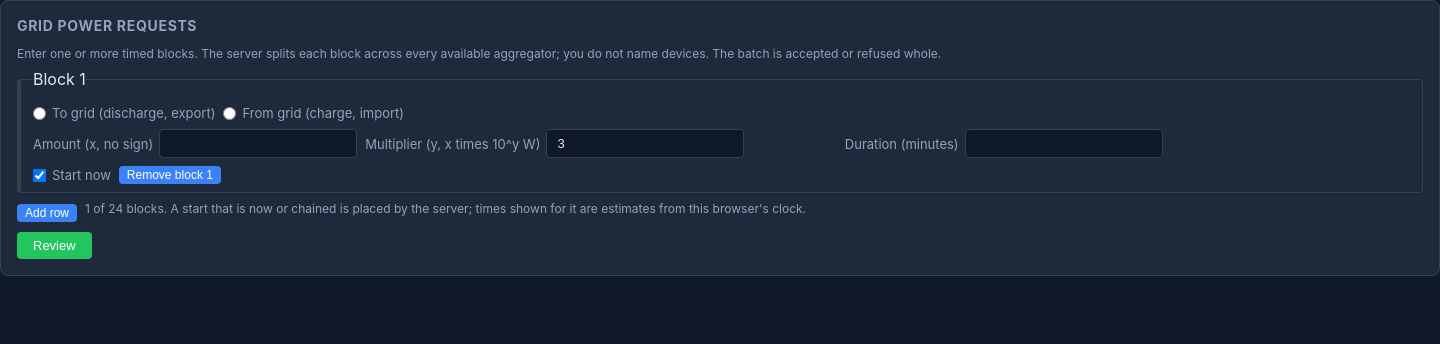
Test: GridRequestPane entry › has no direction chosen to start with, and refuses to review a row without one
Type "50" into the field with test id "grid-x" at (258, 144), box [159,129,357,158]
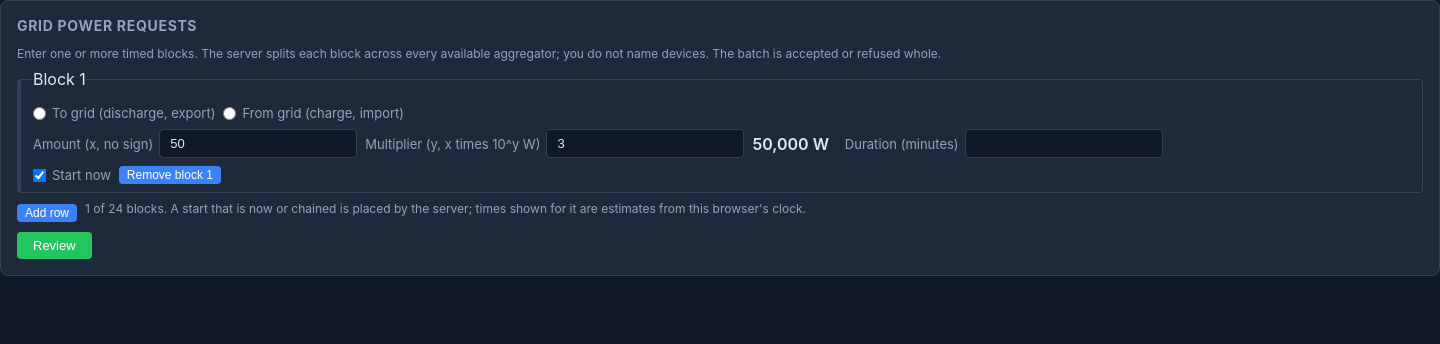
Type "60" into the field with test id "grid-duration" at (1064, 144), box [965,129,1163,158]
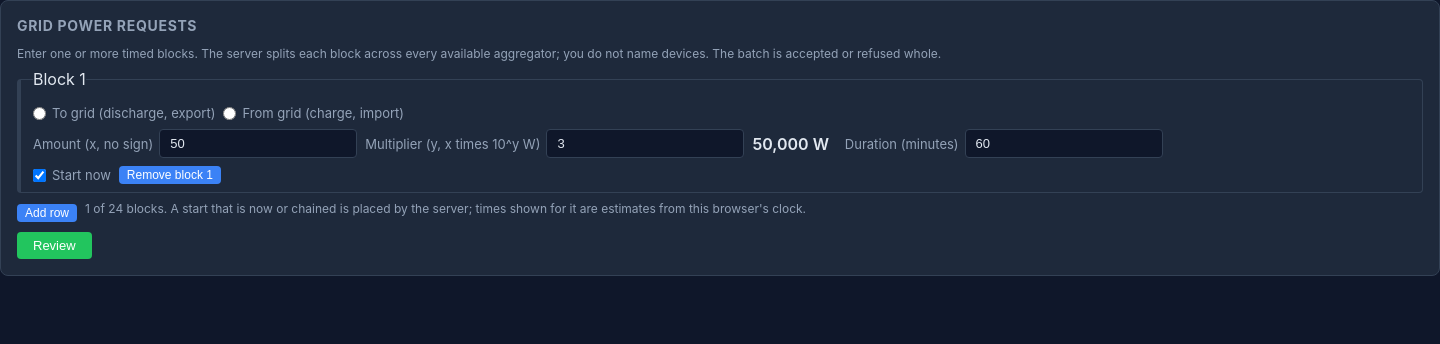
Click the button "Review" at (54, 246), box [17,232,92,259]
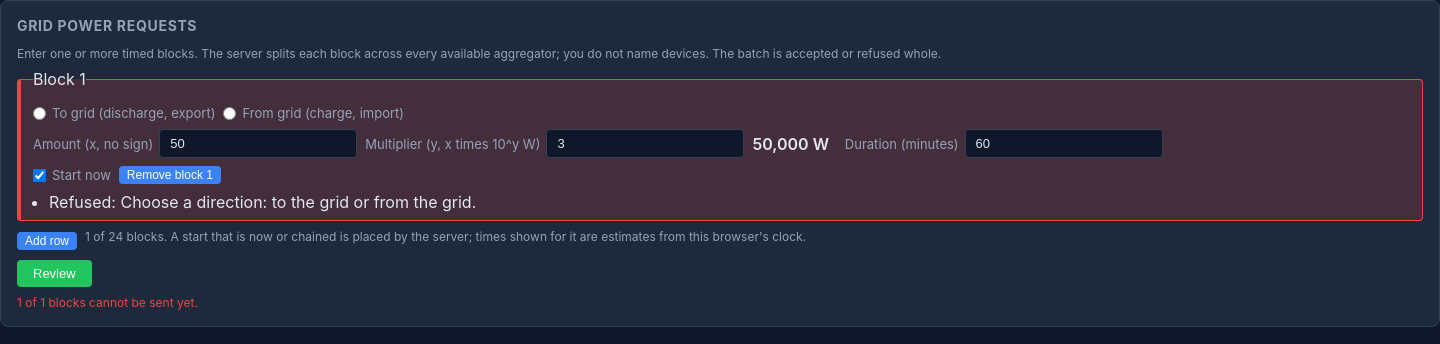
Check: the message with test id "grid-row-refusal" shows "Choose a direction", box [49,192,476,212]
